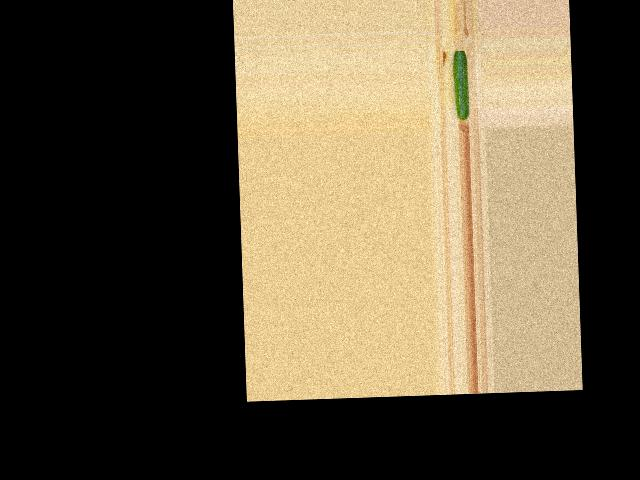cucumber: (453, 51, 469, 120)
